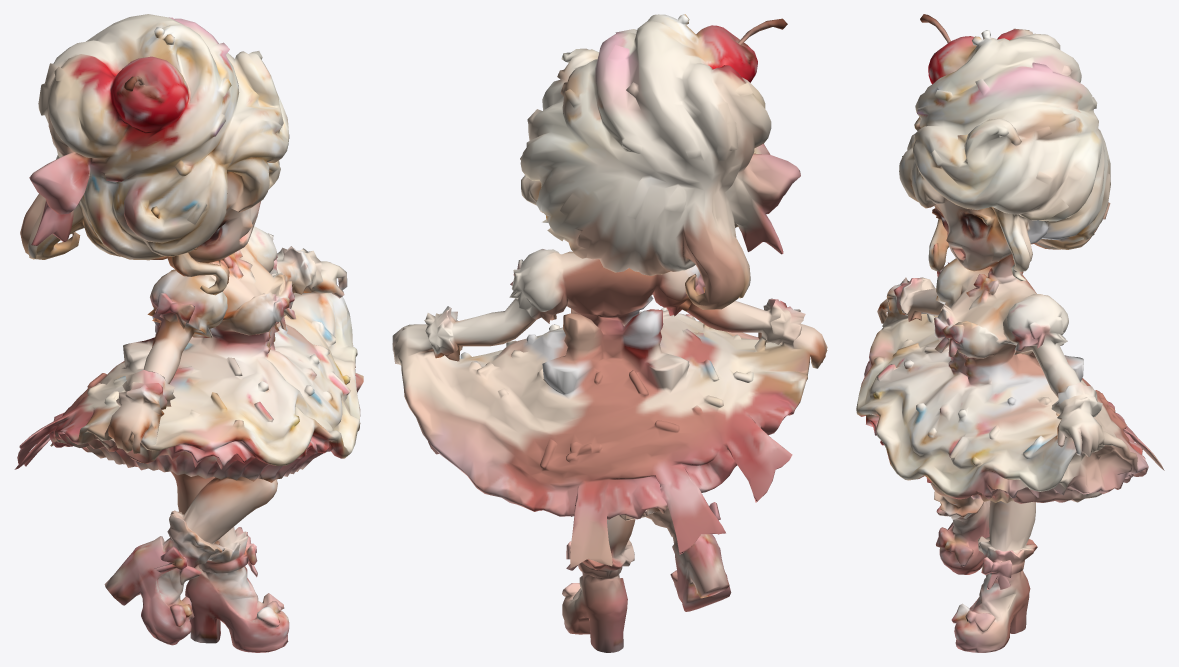
The model's file is cupcake_roblox.glb.
3 views of the same model, side by side, from view 1: azimuth 30°, elevation 25°; view 2: azimuth 150°, elevation 25°; view 3: azimuth 270°, elevation 25° (orthographic). The views are drawn at different scales.
Parts seen in each view (by area): view 1: DessertCupcake_Part002, DessertCupcake_Eyes; view 2: DessertCupcake_Part002; view 3: DessertCupcake_Part002, DessertCupcake_Eyes.
Part boxes in pixels (x1,y1,x2,y2): DessertCupcake_Part002: (14, 14, 363, 652); DessertCupcake_Eyes: (202, 203, 258, 296); DessertCupcake_Part002: (392, 14, 827, 652); DessertCupcake_Part002: (856, 14, 1164, 652); DessertCupcake_Eyes: (928, 204, 974, 295).
Bounding box in the file's own units: 2.13 × 3.57 × 1.74.
Materials: 1 (1 with a texture image).
